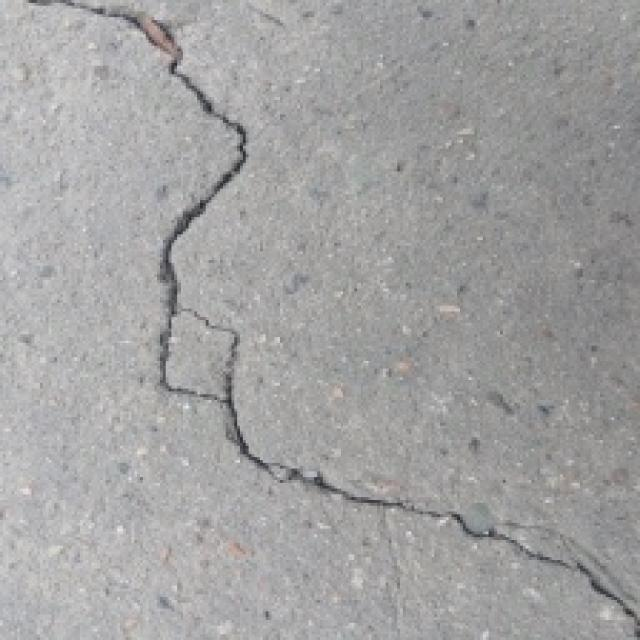crack: (16, 0, 640, 624)
